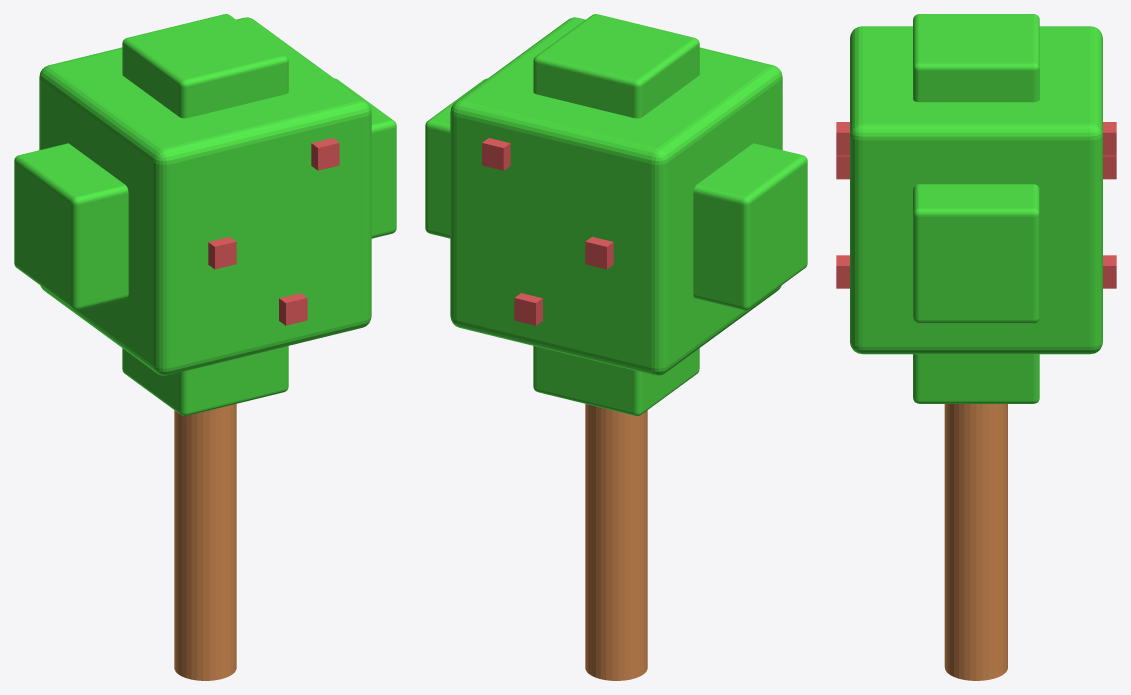
File: blockTree1.fbx
The picture shows the model from 3 angles, left to right: view 1: azimuth 30°, elevation 25°; view 2: azimuth 150°, elevation 25°; view 3: azimuth 270°, elevation 25°; orthographic projection.
Parts seen in each view (by area): view 1: Cube, Cylinder, Cube.003, Cube.004, Cube.005; view 2: Cube, Cylinder, Cube.006, Cube.007, Cube.008; view 3: Cube, Cylinder, Cube.004, Cube.005, Cube.007, Cube.008.
Part boxes in pixels (<box>): Cube: <box>14,14,396,416</box>; Cylinder: <box>174,404,236,680</box>; Cube.003: <box>208,236,236,269</box>; Cube.004: <box>311,138,339,170</box>; Cube.005: <box>279,293,307,325</box>; Cube: <box>425,14,807,416</box>; Cylinder: <box>585,404,647,680</box>; Cube.006: <box>585,236,613,269</box>; Cube.007: <box>482,138,510,170</box>; Cube.008: <box>514,293,542,325</box>; Cube: <box>850,14,1102,403</box>; Cylinder: <box>944,404,1007,680</box>; Cube.004: <box>836,122,849,155</box>; Cube.005: <box>836,255,849,288</box>; Cube.007: <box>1103,122,1116,155</box>; Cube.008: <box>1103,255,1116,288</box>.
Size of the model in its own units: 600 by 1096 by 443.
